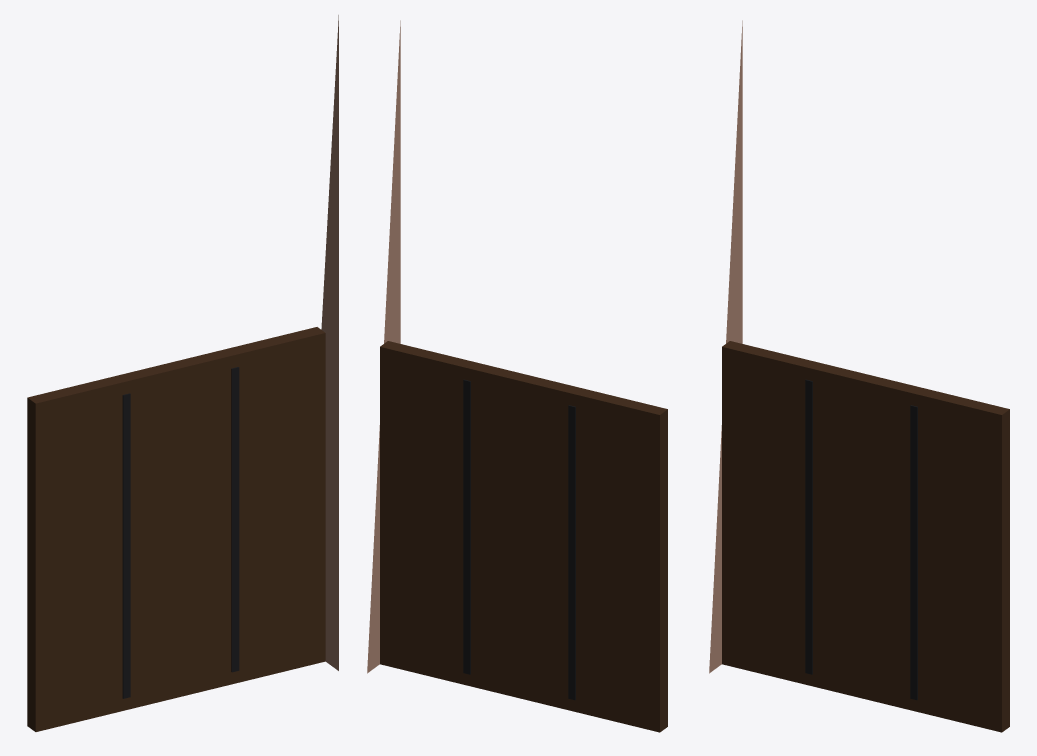
Rendered from ato2_porta_hall.glb.
The picture shows the model from 3 angles, left to right: view 1: azimuth 30°, elevation 25°; view 2: azimuth 150°, elevation 25°; view 3: azimuth 330°, elevation 25°; orthographic projection. The views are drawn at different scales.
Parts seen in each view (by area): view 1: Malha_0; view 2: Malha_0; view 3: Malha_0.
Boxes of the visible parts, x1,y1,x2,y2 form: Malha_0: (27,15,338,731); Malha_0: (367,20,667,732); Malha_0: (709,20,1009,732).
Size of the model in its own units: 2.4 by 5.2 by 0.5.
